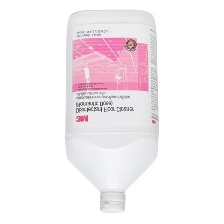cleaning_solution: (62, 6, 160, 216)
